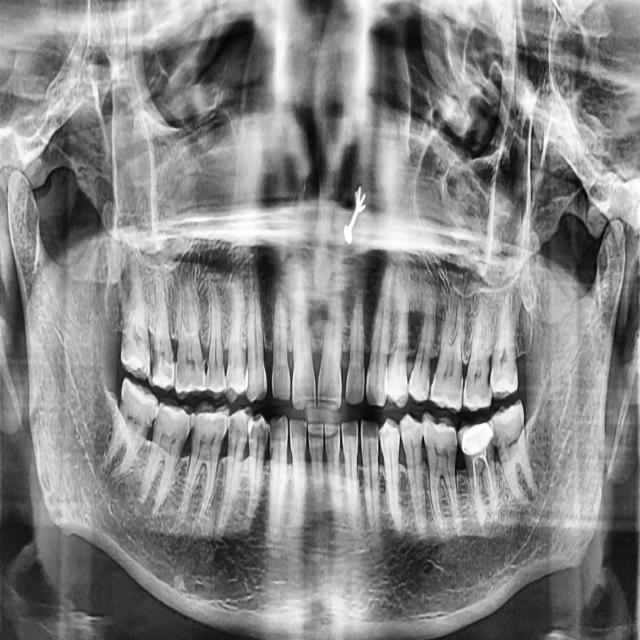karies: (457, 421, 501, 464)
